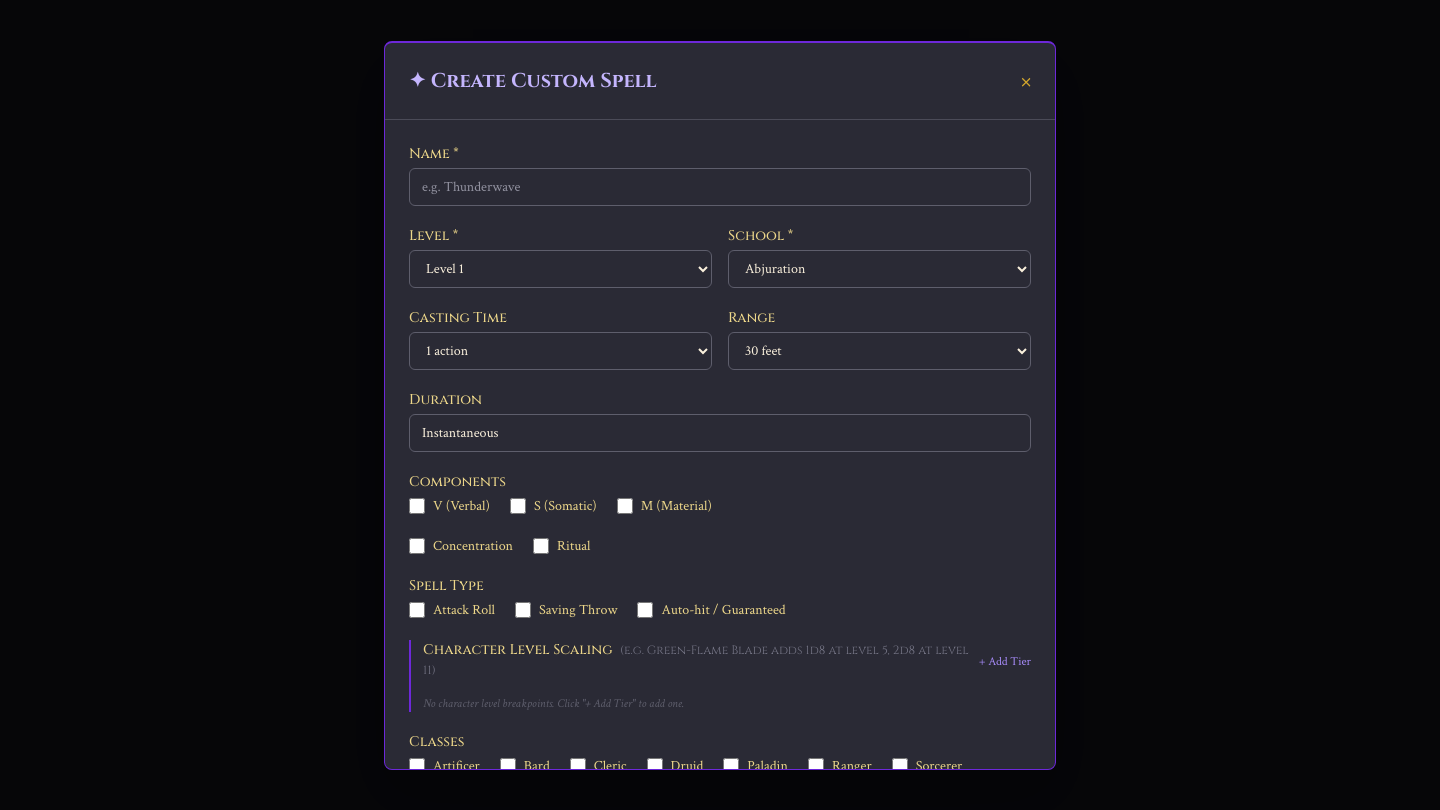
it: CreateSpellModal › validation › shows "Description is required" when description is blank on submit
In the field with placeholder "e.g. Thunderwave": (720, 186) [409, 168, 1031, 206], type "My Spell"
(page scrolled)
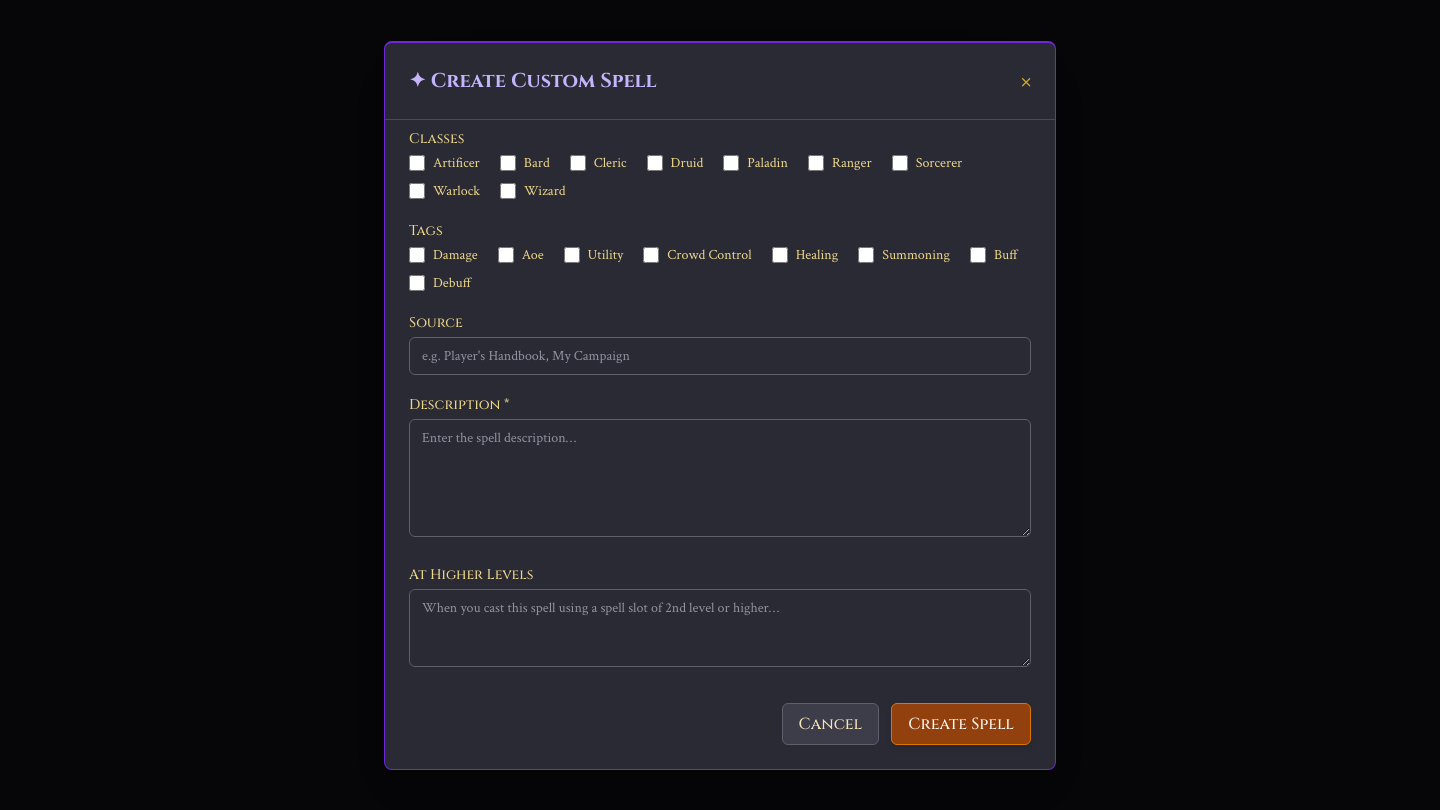
Click the button "Create Spell": (961, 724) [891, 702, 1031, 744]
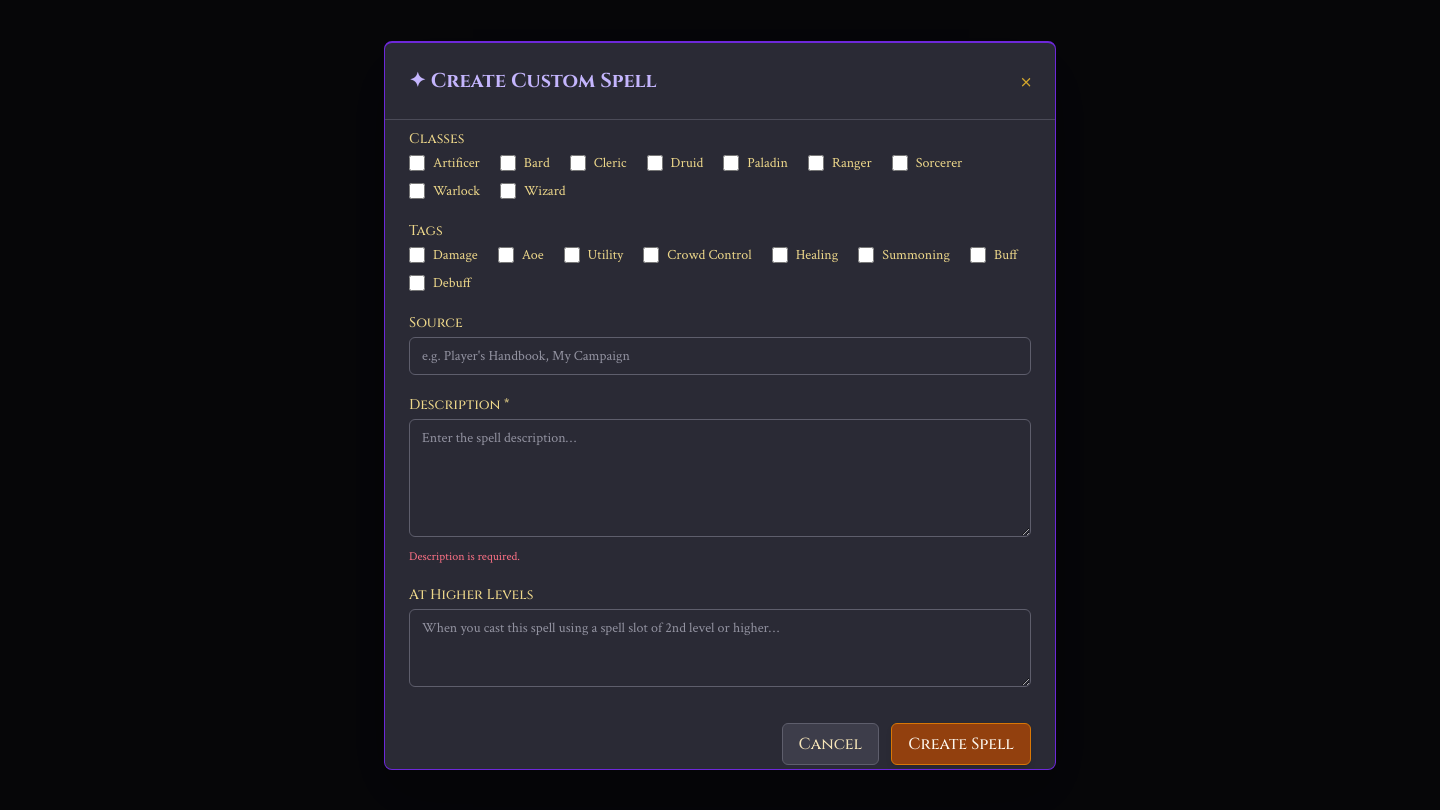
expect the text "Description is required." is shown: met, box [409, 548, 520, 564]
